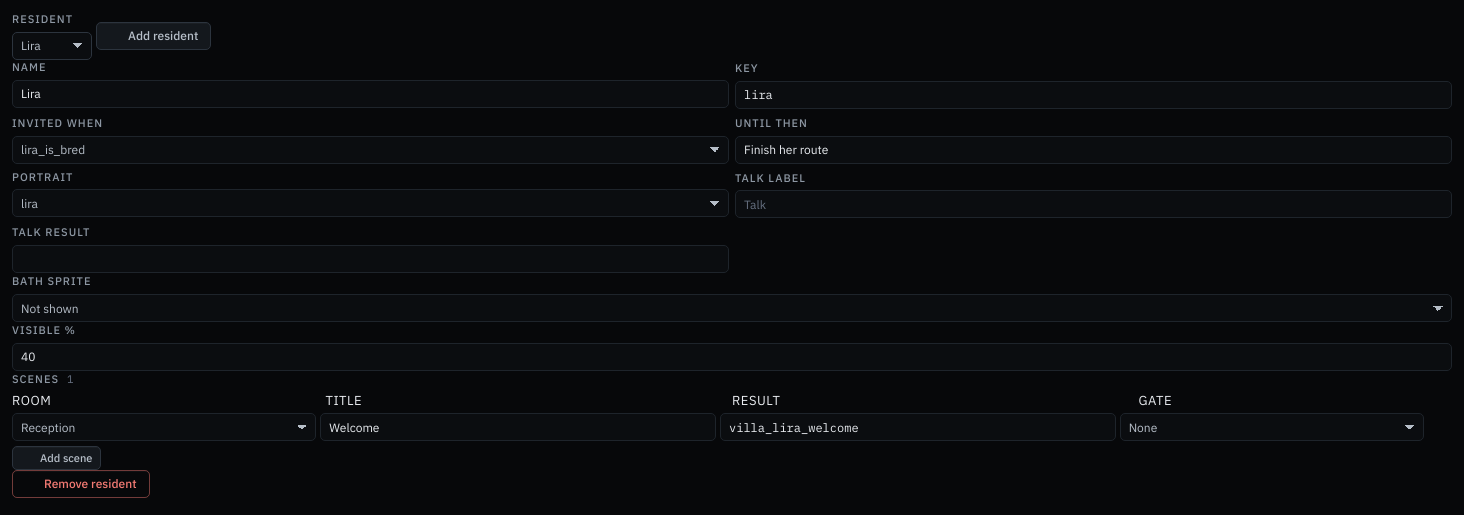
Test: EstateResidents › makes her reserved room shared again when she is removed
Click the button "Remove resident". click: (81, 484)
box: [12,470,150,498]
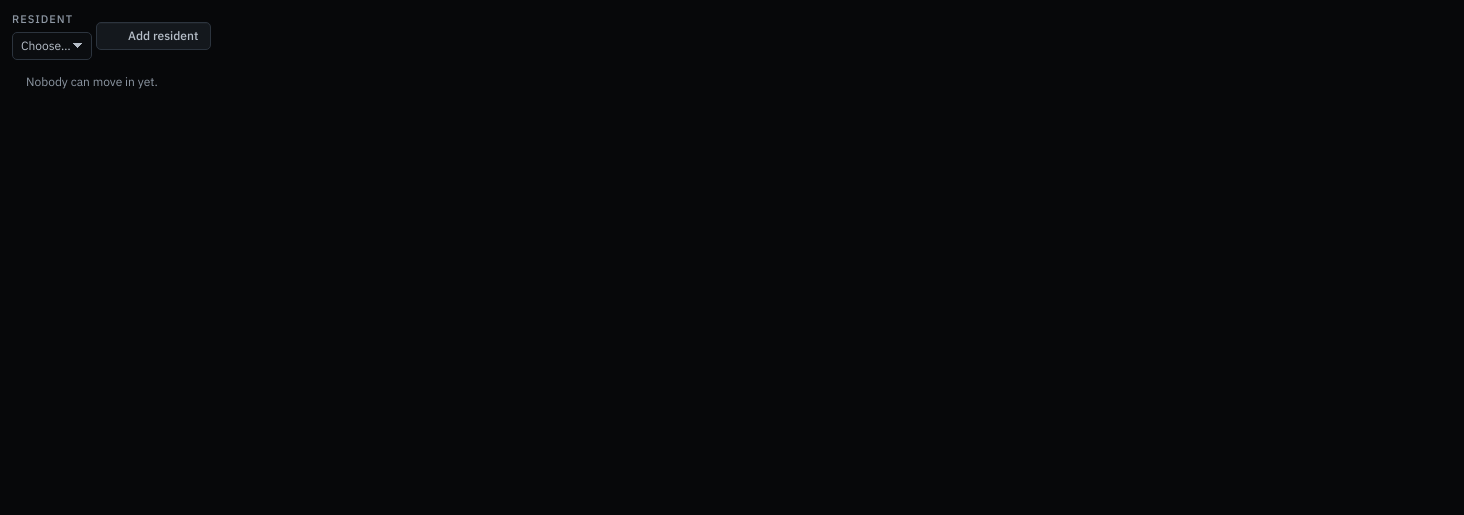
expect the text "Nobody can move in yet." is shown: met, box [26,74,158,89]
